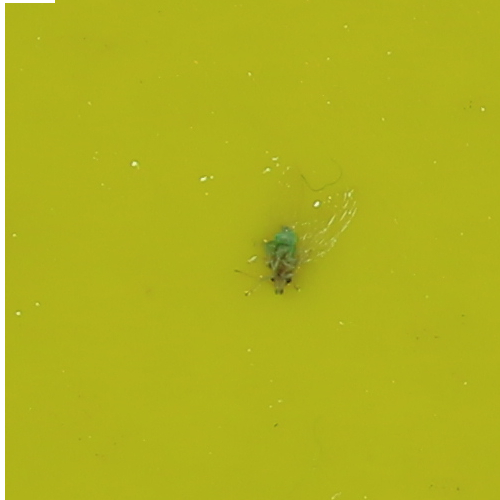Glycaspis: (261, 224, 301, 294)
